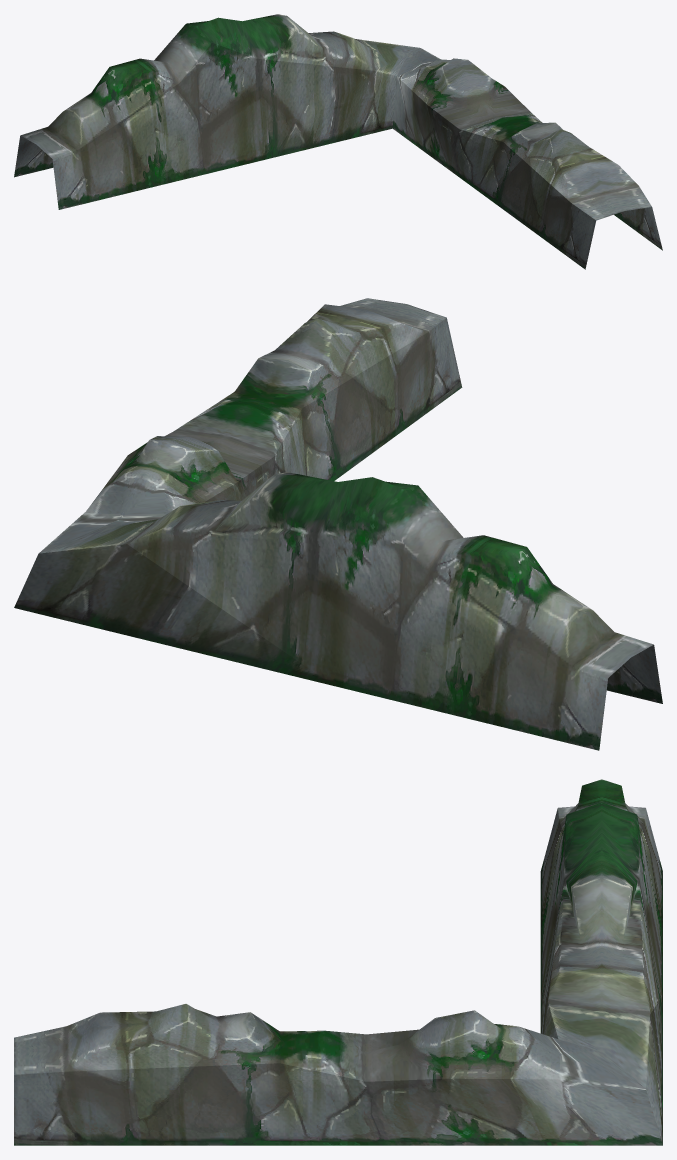
Rendered from stemple_cap_concave_01.fbx.
The picture shows the model from 3 angles, top to bottom: view 1: azimuth 30°, elevation 25°; view 2: azimuth 150°, elevation 25°; view 3: azimuth 270°, elevation 25°; orthographic projection. The views are drawn at different scales.
Visible parts, largest first — view 1: stemple_cap_concave_01-0; view 2: stemple_cap_concave_01-0; view 3: stemple_cap_concave_01-0.
Boxes of the visible parts, <box> form: stemple_cap_concave_01-0: <box>14,14,662,269</box>; stemple_cap_concave_01-0: <box>14,298,662,750</box>; stemple_cap_concave_01-0: <box>14,779,662,1145</box>.
Size of the model in its own units: 4.42 by 1.35 by 4.42.
